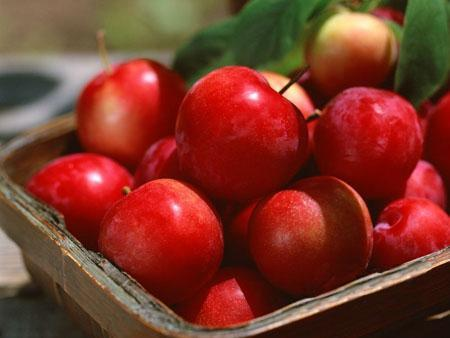apple: (176, 65, 313, 198), (96, 178, 225, 306), (249, 174, 374, 289), (310, 86, 424, 197), (74, 58, 186, 169), (370, 195, 450, 269)
